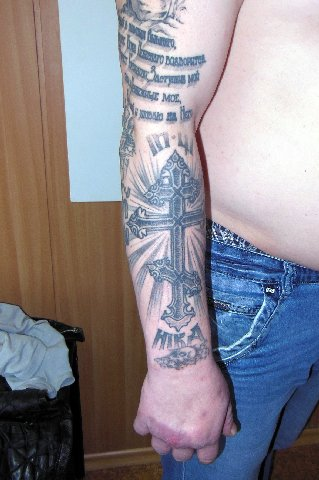tatu9_krest: (131, 149, 202, 322)
